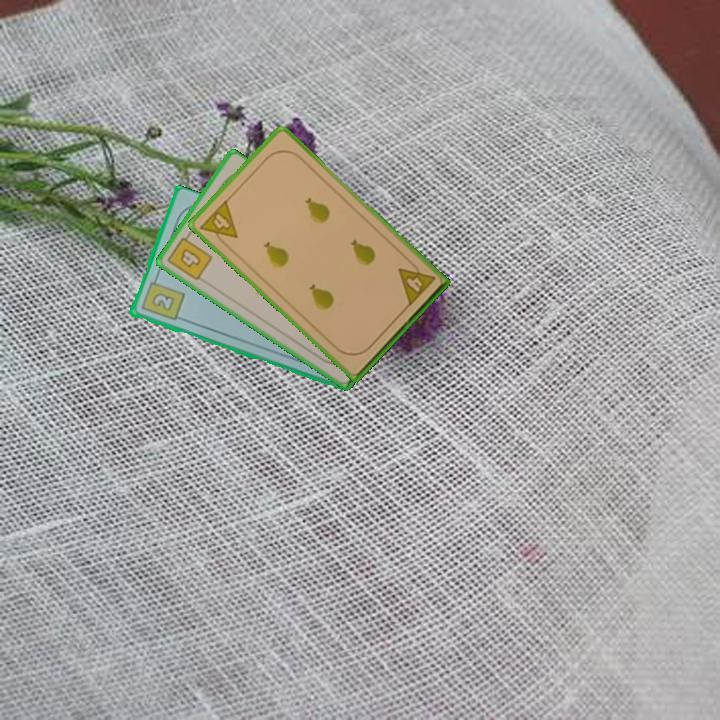2b: (137, 273, 187, 324)
4b: (164, 228, 215, 284)
4p: (196, 196, 241, 251), (394, 256, 438, 309)
